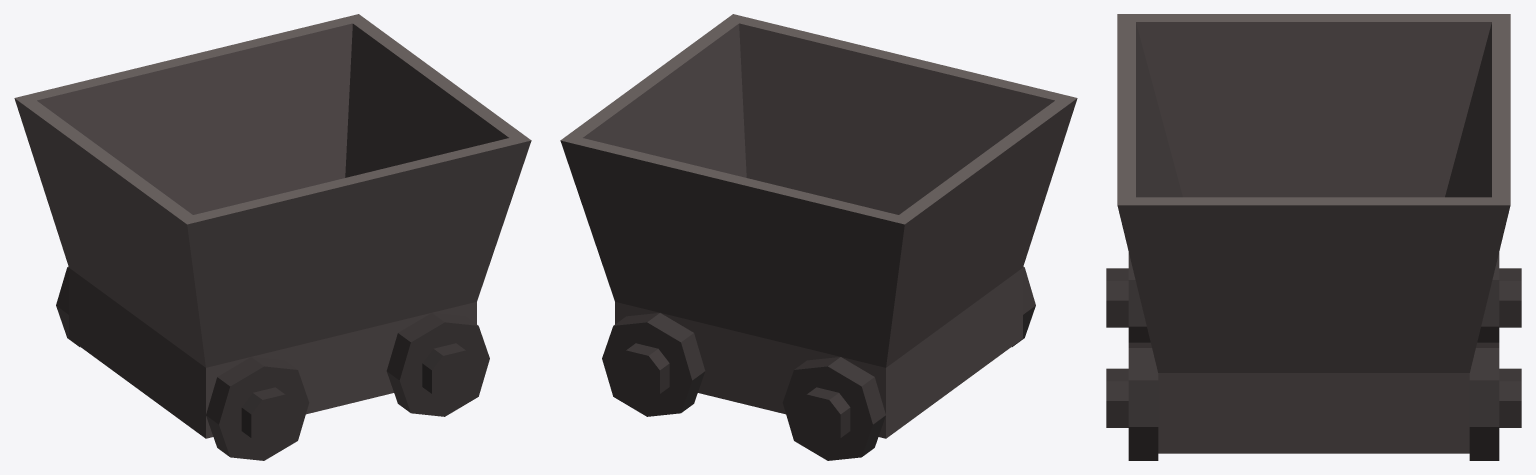
The model's file is mine-carts.gltf.
3 views of the same model, side by side, from view 1: azimuth 30°, elevation 25°; view 2: azimuth 150°, elevation 25°; view 3: azimuth 270°, elevation 25° (orthographic). The views are drawn at different scales.
Bounding box in the file's own units: 122 × 88 × 112.
Materials: 1 (1 with a texture image).
